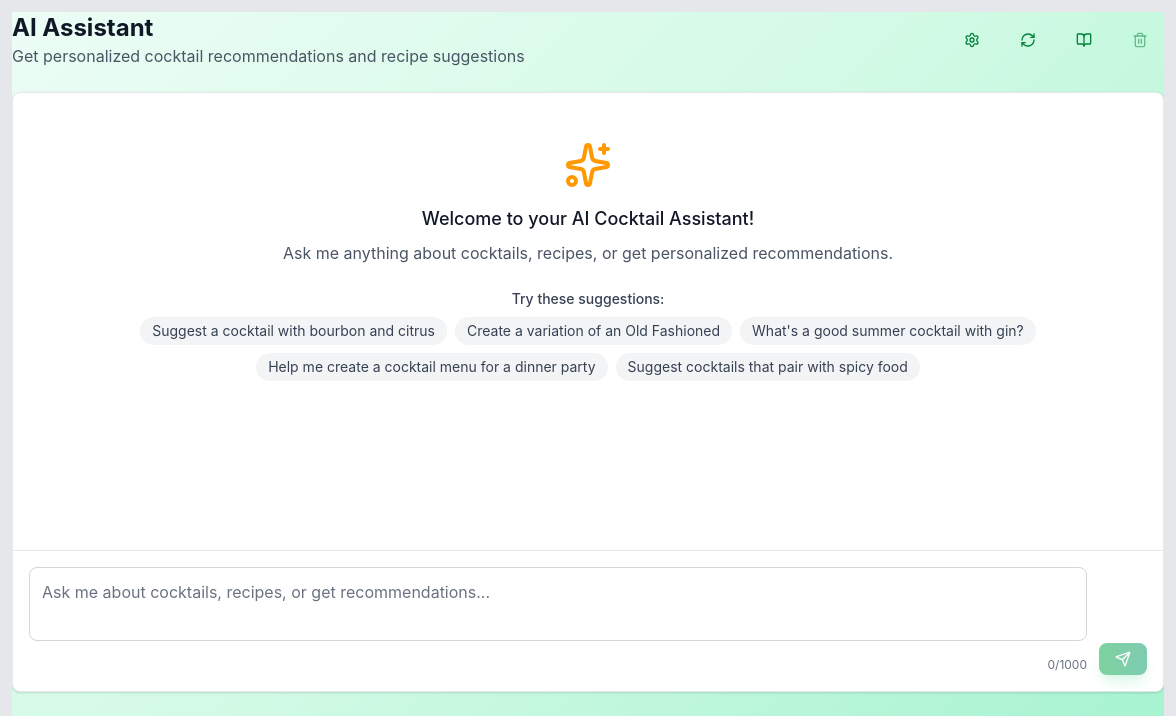
Test: AIAssistant Component › handles PDF file upload
Note: Open PDF upload section
Step 1. Click the button named "upload pdf recipe book" → [1084, 40], box [1060,24,1108,56]
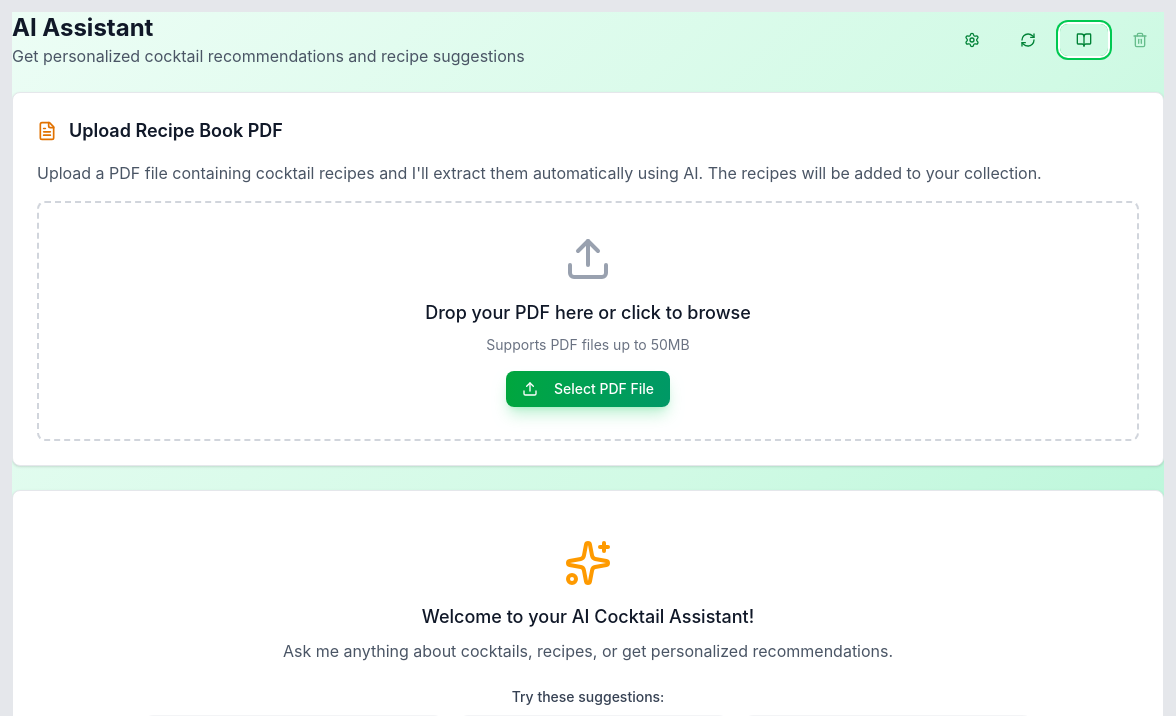
Result: the element named "select pdf file" is shown at [37,201,1139,441]
